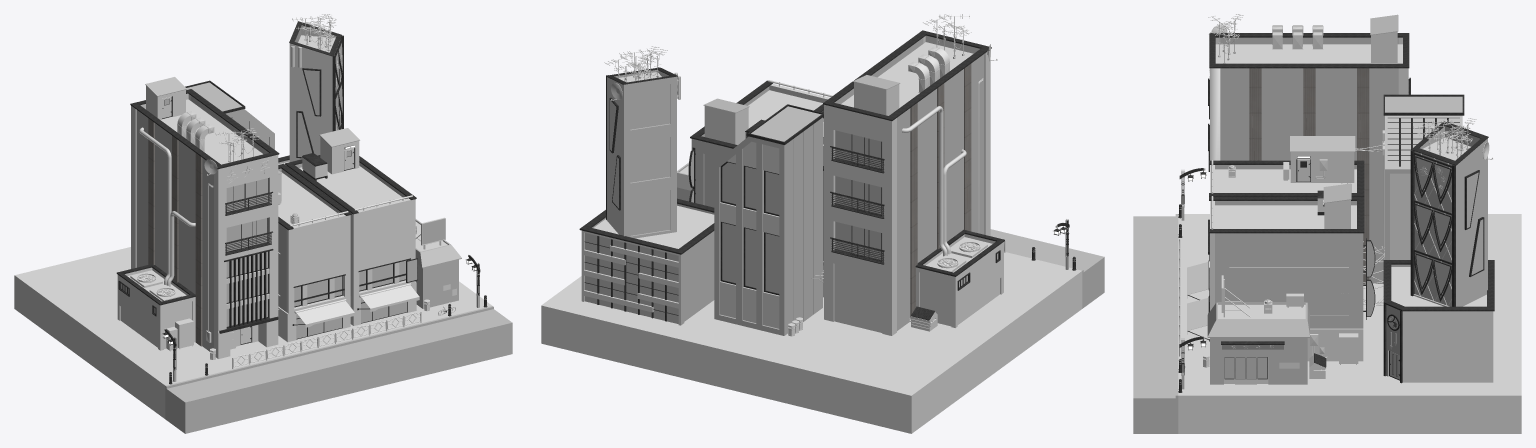
Rendered from KB3D_NTT_BldgSM_B.fbx.
The picture shows the model from 3 angles, left to right: view 1: azimuth 30°, elevation 25°; view 2: azimuth 150°, elevation 25°; view 3: azimuth 270°, elevation 25°; orthographic projection. The views are drawn at different scales.
Parts seen in each view (by area): view 1: KB3D_NTT_BldgSM_B_Main, KB3D_NTT_BldgSM_B_BuildingA, KB3D_NTT_BldgSM_B_BuildingC, KB3D_NTT_BldgSM_B_BuildingB, KB3D_NTT_BldgSM_B_BuildingE, KB3D_NTT_BldgSM_B_BuildingD, KB3D_NTT_BldgSM_B_BuildingF, KB3D_NTT_BldgSM_B_AntennaB, KB3D_NTT_BldgSM_B_AntennaA; view 2: KB3D_NTT_BldgSM_B_BuildingA, KB3D_NTT_BldgSM_B_Main, KB3D_NTT_BldgSM_B_BuildingE, KB3D_NTT_BldgSM_B_BuildingF, KB3D_NTT_BldgSM_B_BuildingC, KB3D_NTT_BldgSM_B_AntennaB, KB3D_NTT_BldgSM_B_AntennaA; view 3: KB3D_NTT_BldgSM_B_Main, KB3D_NTT_BldgSM_B_BuildingA, KB3D_NTT_BldgSM_B_BuildingE, KB3D_NTT_BldgSM_B_BuildingC, KB3D_NTT_BldgSM_B_BuildingD, KB3D_NTT_BldgSM_B_BuildingB, KB3D_NTT_BldgSM_B_BuildingF, KB3D_NTT_BldgSM_B_AntennaB, KB3D_NTT_BldgSM_B_AntennaA.
Boxes of the visible parts, <box> form: KB3D_NTT_BldgSM_B_Main: <box>14,247,512,433</box>; KB3D_NTT_BldgSM_B_BuildingA: <box>116,77,279,359</box>; KB3D_NTT_BldgSM_B_BuildingC: <box>285,128,419,325</box>; KB3D_NTT_BldgSM_B_BuildingB: <box>278,163,354,342</box>; KB3D_NTT_BldgSM_B_BuildingE: <box>278,21,343,164</box>; KB3D_NTT_BldgSM_B_BuildingD: <box>415,217,461,311</box>; KB3D_NTT_BldgSM_B_BuildingF: <box>185,80,274,149</box>; KB3D_NTT_BldgSM_B_AntennaB: <box>292,14,336,51</box>; KB3D_NTT_BldgSM_B_AntennaA: <box>215,128,258,162</box>; KB3D_NTT_BldgSM_B_BuildingA: <box>823,30,1004,335</box>; KB3D_NTT_BldgSM_B_Main: <box>541,219,1104,433</box>; KB3D_NTT_BldgSM_B_BuildingE: <box>579,67,714,325</box>; KB3D_NTT_BldgSM_B_BuildingF: <box>714,104,823,336</box>; KB3D_NTT_BldgSM_B_BuildingC: <box>688,80,832,207</box>; KB3D_NTT_BldgSM_B_AntennaB: <box>604,46,667,81</box>; KB3D_NTT_BldgSM_B_AntennaA: <box>923,14,971,58</box>; KB3D_NTT_BldgSM_B_Main: <box>1133,168,1521,433</box>; KB3D_NTT_BldgSM_B_BuildingA: <box>1208,14,1410,284</box>; KB3D_NTT_BldgSM_B_BuildingE: <box>1383,121,1494,383</box>; KB3D_NTT_BldgSM_B_BuildingC: <box>1187,183,1375,364</box>; KB3D_NTT_BldgSM_B_BuildingD: <box>1203,275,1326,384</box>; KB3D_NTT_BldgSM_B_BuildingB: <box>1187,136,1364,300</box>; KB3D_NTT_BldgSM_B_BuildingF: <box>1382,94,1464,283</box>; KB3D_NTT_BldgSM_B_AntennaB: <box>1413,118,1476,159</box>; KB3D_NTT_BldgSM_B_AntennaA: <box>1208,14,1243,63</box>.
Size of the model in its own units: 3047 by 2215 by 2754.
